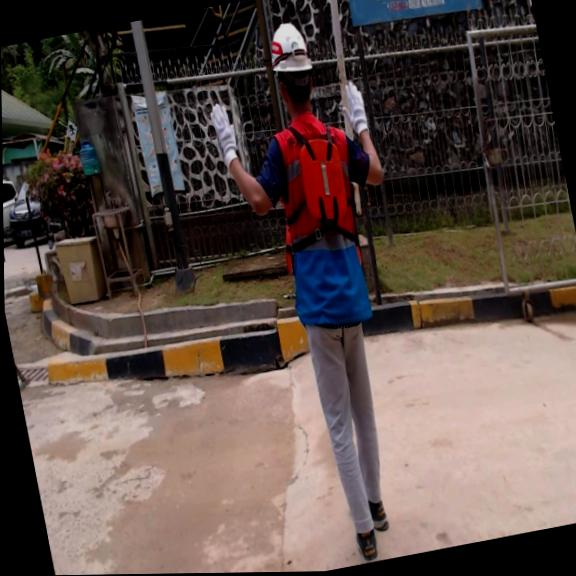safety_vest: (293, 133, 353, 228)
